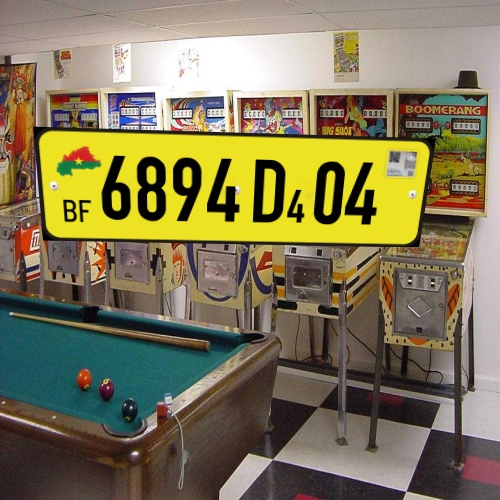plate: (21, 118, 435, 261)
